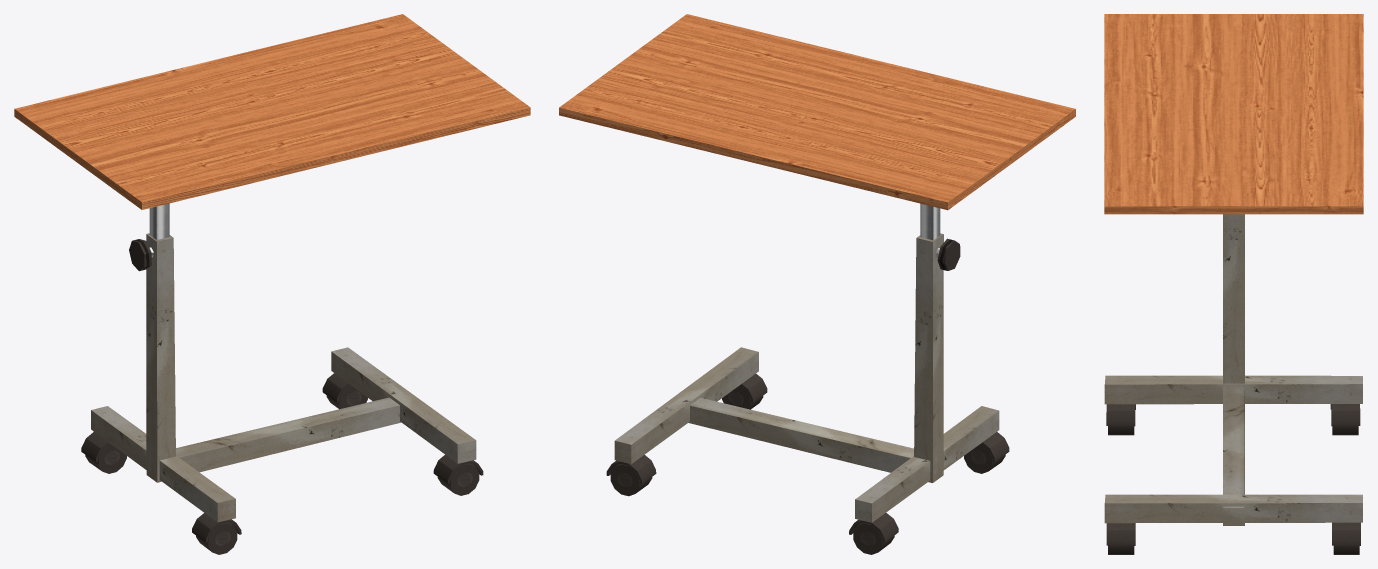
The model's file is badside_table.glb.
The picture shows the model from 3 angles, left to right: view 1: azimuth 30°, elevation 25°; view 2: azimuth 150°, elevation 25°; view 3: azimuth 270°, elevation 25°; orthographic projection.
Parts seen in each view (by area): view 1: bed-table; view 2: bed-table; view 3: bed-table.
Part boxes in pixels (x1,y1,x2,y2): bed-table: (14, 14, 530, 554); bed-table: (559, 14, 1075, 554); bed-table: (1104, 14, 1363, 554).
Bounding box in the file's own units: 42.32 × 38.83 × 24.1.
1 material, 1 textured.
